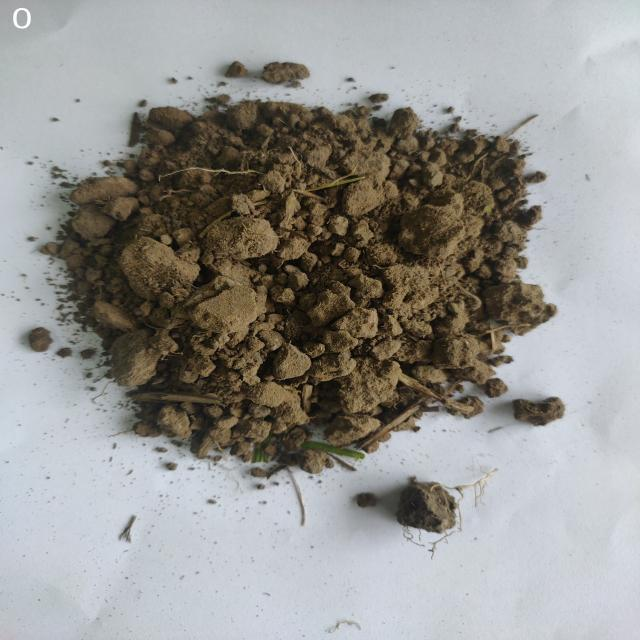soil: (160, 139, 468, 396)
